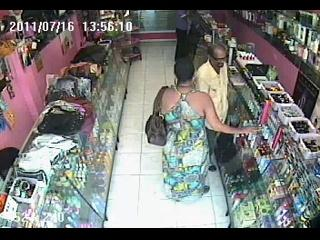Normal: (150, 77, 262, 204), (193, 44, 230, 125)
